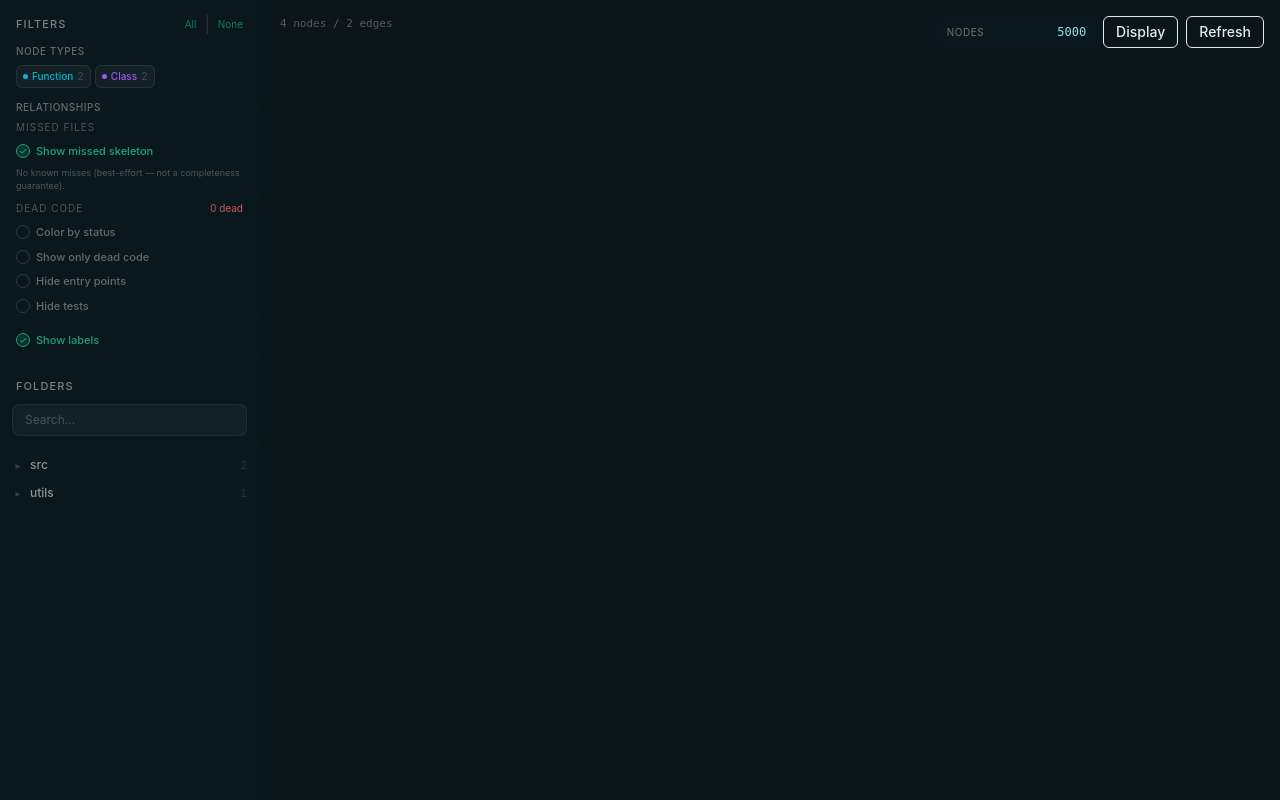
Test: GraphTab selection › shows the detail panel for a search result that has no file_path
Expected: the text "Filters" is shown, [16,16,66,32]
Type "orphan" into the field with placeholder "Search..." at coordinates (130, 420), box [12,404,247,436]
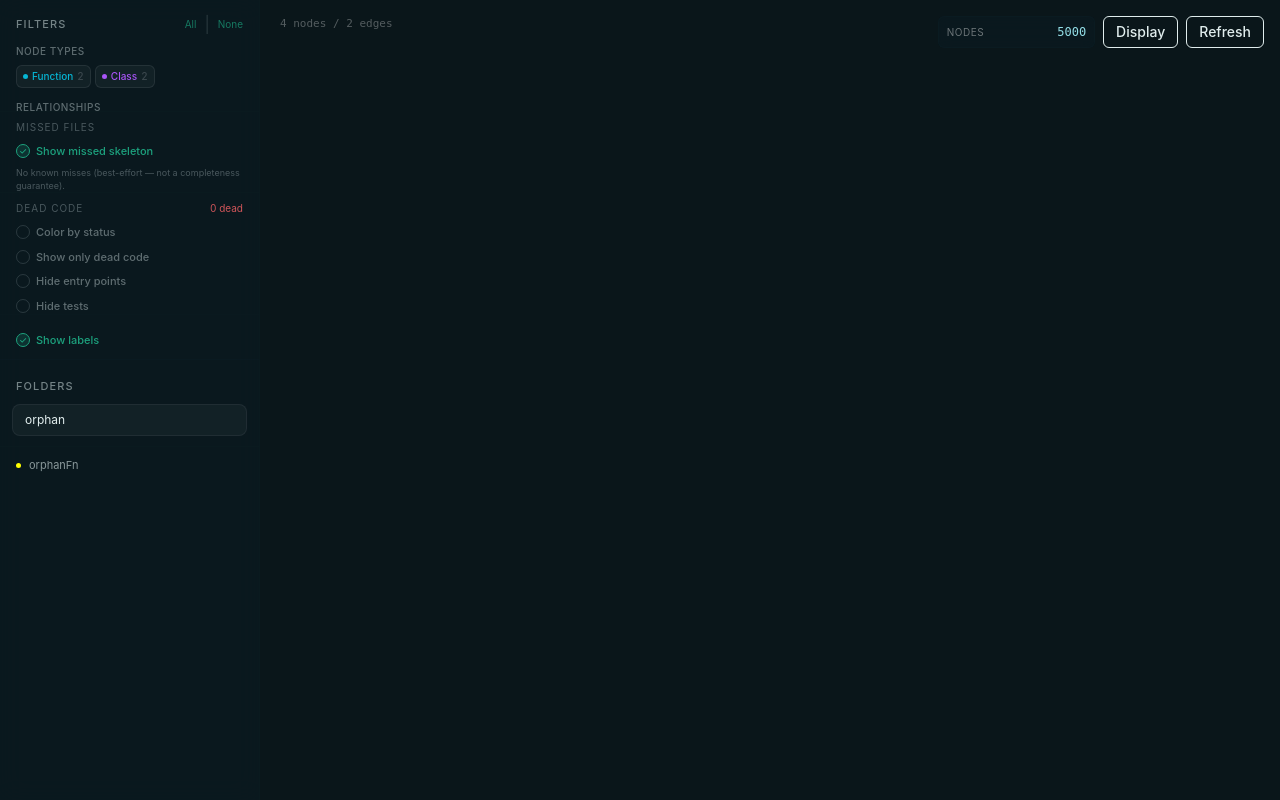
Click the button "orphanFn" at coordinates (130, 465), box [0,451,259,480]
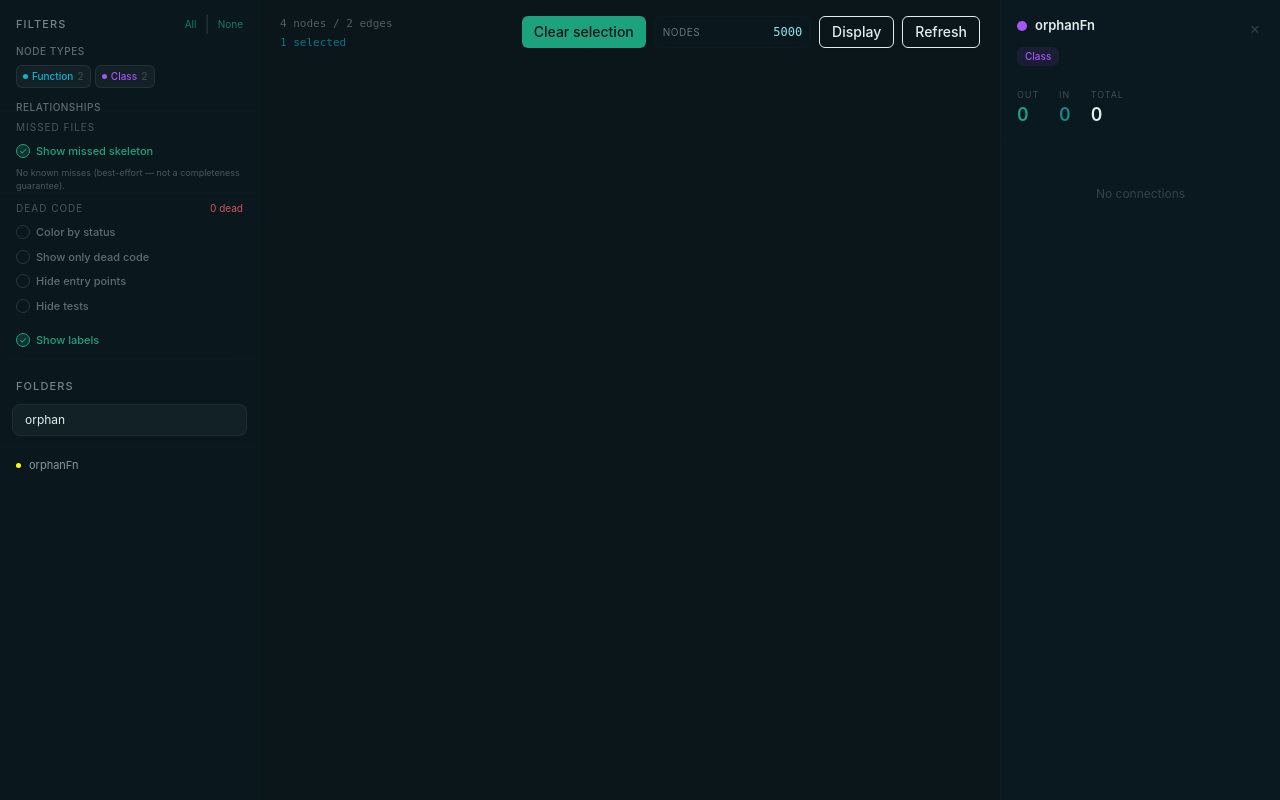
Result: the heading "orphanFn" is shown at [1035,16,1095,36]
